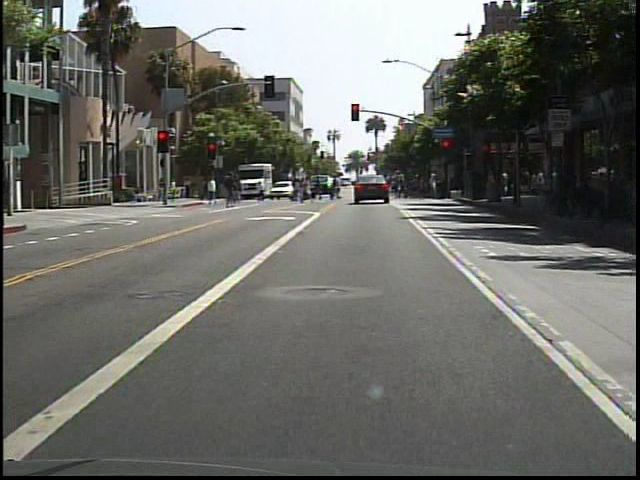person: (221, 173, 241, 211), (347, 168, 364, 207), (299, 173, 315, 206), (203, 178, 220, 209)
